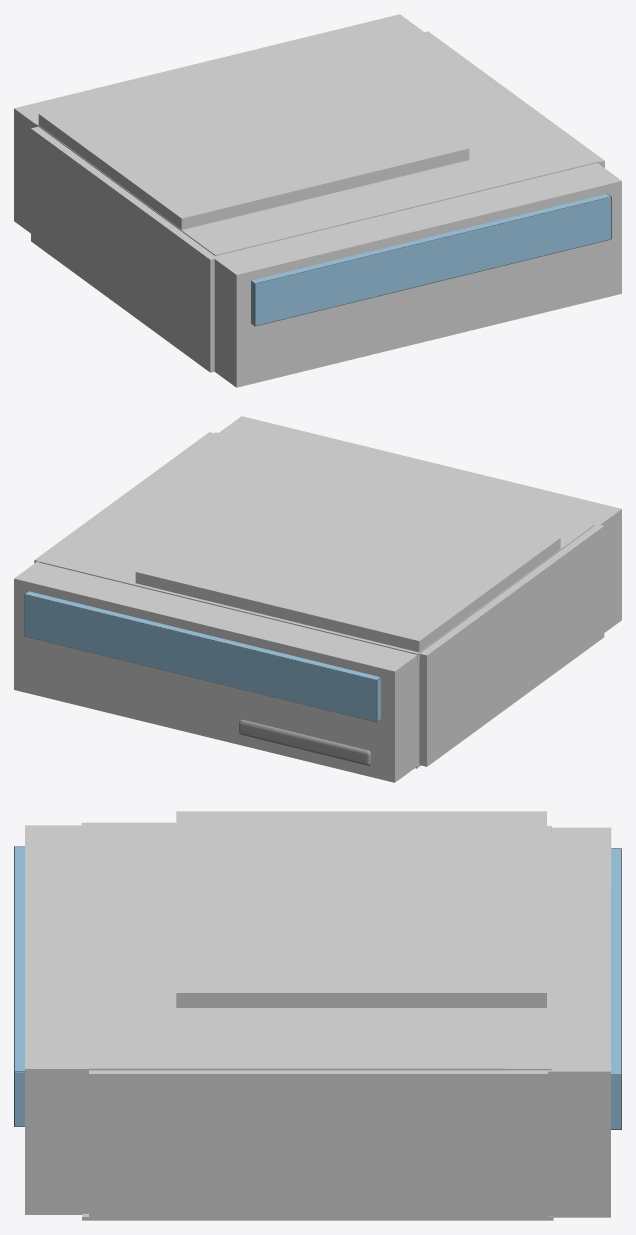
Rendered from interior.fbx.
The picture shows the model from 3 angles, top to bottom: view 1: azimuth 30°, elevation 25°; view 2: azimuth 150°, elevation 25°; view 3: azimuth 270°, elevation 25°; orthographic projection. The views are drawn at different scales.
Visible parts, largest first — view 1: polySurface3, Wall1, Wall, polySurface2, Window1; view 2: Wall, polySurface3, polySurface2, Window, Wall1, Bed.frozen; view 3: Wall1, polySurface3, polySurface2, Wall, Window, Window1.
Boxes of the visible parts, x1=… form: polySurface3: x1=38, y1=44, x2=469, y2=229; Wall1: x1=214, y1=31, x2=621, y2=387; Wall: x1=14, y1=14, x2=423, y2=372; polySurface2: x1=36, y1=30, x2=599, y2=255; Window1: x1=251, y1=193, x2=611, y2=326; Wall: x1=14, y1=524, x2=604, y2=782; polySurface3: x1=135, y1=468, x2=560, y2=652; polySurface2: x1=38, y1=432, x2=594, y2=661; Window: x1=24, y1=591, x2=380, y2=722; Wall1: x1=34, y1=416, x2=621, y2=632; Bed.frozen: x1=239, y1=719, x2=370, y2=766; Wall1: x1=25, y1=825, x2=547, y2=1219; polySurface3: x1=176, y1=811, x2=546, y2=1007; polySurface2: x1=88, y1=826, x2=551, y2=1075; Wall: x1=81, y1=822, x2=611, y2=1217; Window: x1=611, y1=848, x2=621, y2=1129; Window1: x1=14, y1=846, x2=24, y2=1126.
Bounding box in the file's own units: 2372 × 726 × 2427.
